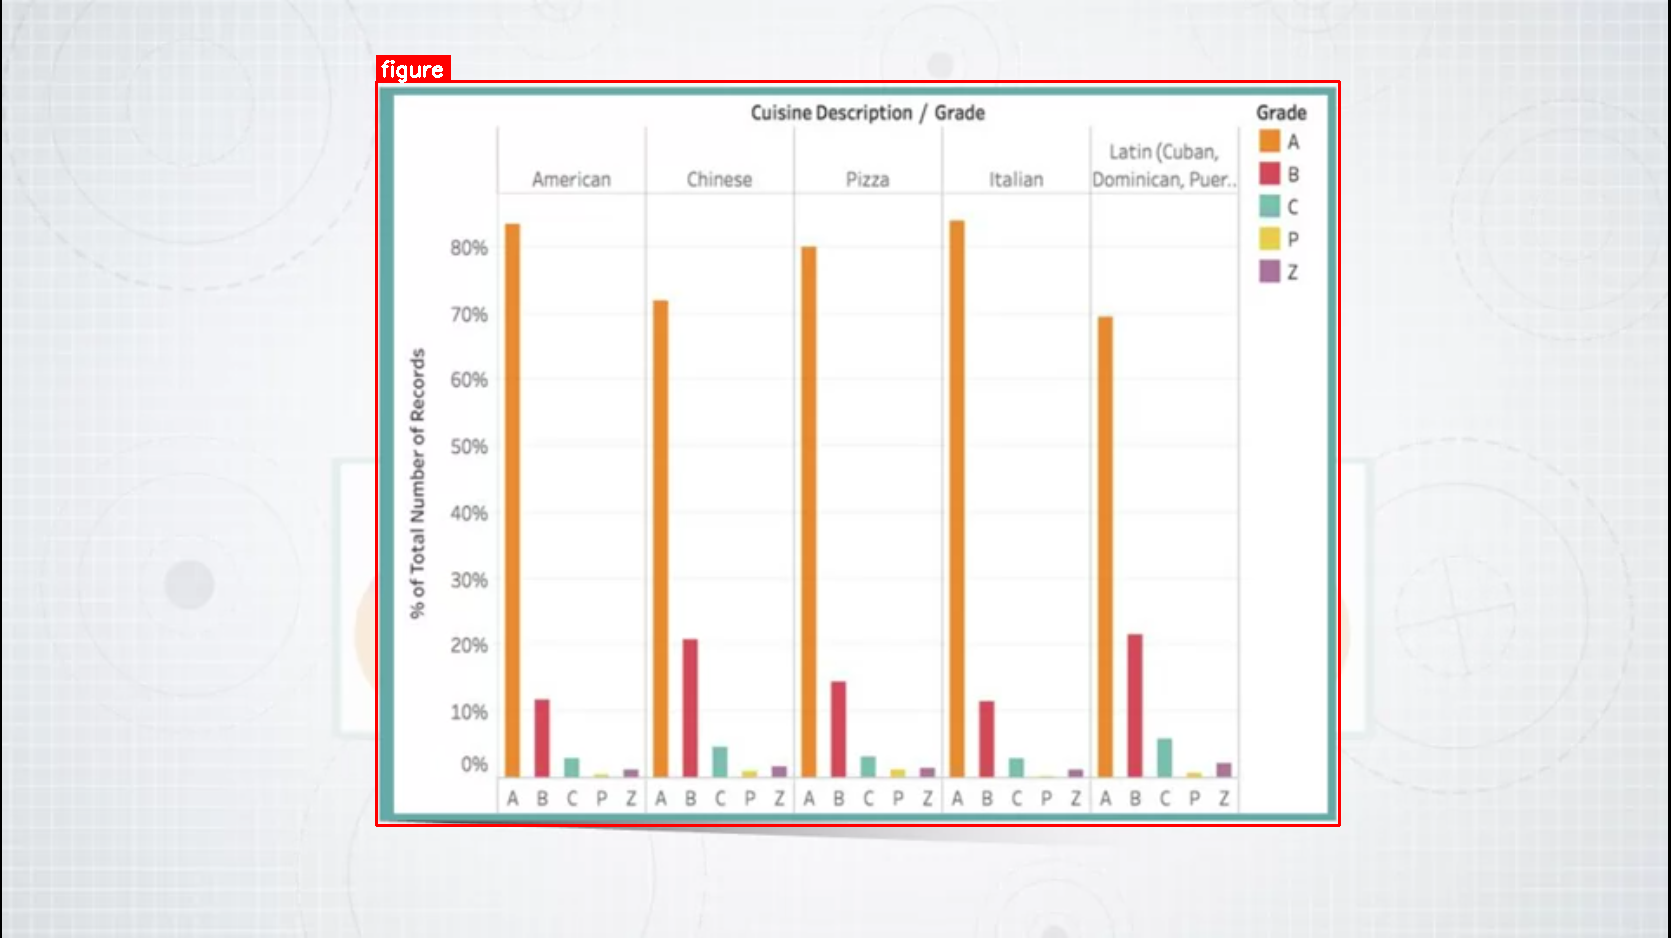figure: (376, 82, 1339, 825)
